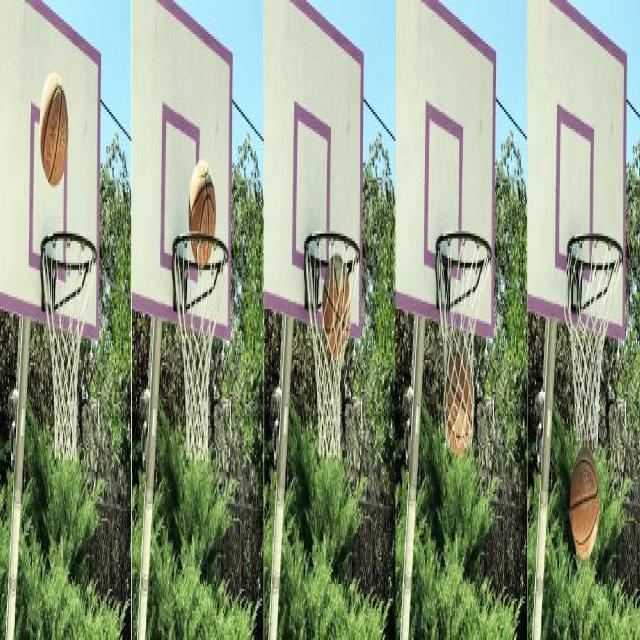Basketball: (570, 446, 599, 560), (39, 73, 68, 186), (445, 348, 474, 456), (322, 253, 350, 361), (188, 158, 216, 266)
hoop: (564, 234, 624, 458), (172, 231, 229, 462), (40, 231, 97, 460), (304, 231, 360, 457), (436, 231, 492, 453)
